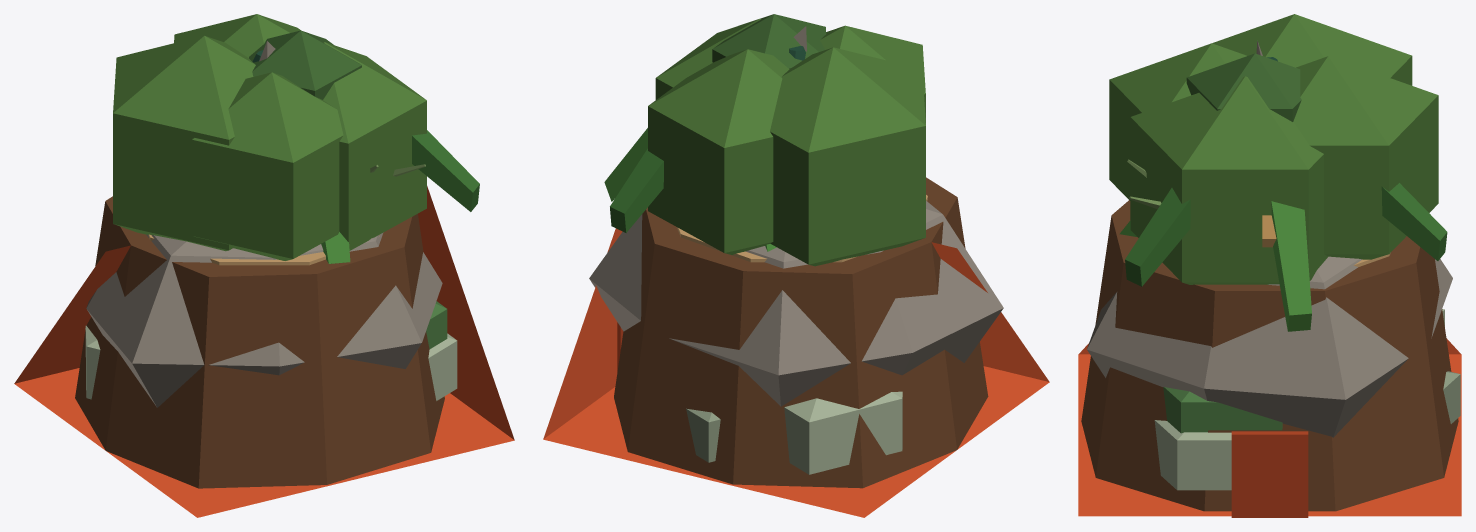
The model's file is scenery-mid.glb.
3 renders of one model, left to right at view 1: azimuth 30°, elevation 25°; view 2: azimuth 150°, elevation 25°; view 3: azimuth 270°, elevation 25°, orthographic. The views are drawn at different scales.
Parts seen in each view (by area): view 1: stump-bark, oak-oak-leaf, tent-canvas, rock-stone, oak-oak-leaf-dark, palm-palm-frond-dark, sage-sage-light, stump-cut-wood, bush-leaf-light, palm-palm-frond; view 2: stump-bark, oak-oak-leaf, rock-stone, tent-canvas, sage-sage-light, oak-oak-leaf-dark, palm-palm-frond-dark, sage-sage, palm-palm-frond; view 3: oak-oak-leaf, stump-bark, rock-stone, tent-canvas, tent-canvas-dark, palm-palm-frond-dark, sage-sage-light, oak-oak-leaf-dark, palm-palm-frond, bush-leaf-light, sage-sage.
Boxes of the visible parts, x1=… form: stump-bark: x1=75, y1=196, x2=444, y2=488; oak-oak-leaf: x1=113, y1=14, x2=426, y2=260; tent-canvas: x1=14, y1=186, x2=514, y2=517; rock-stone: x1=86, y1=232, x2=442, y2=407; oak-oak-leaf-dark: x1=249, y1=30, x2=361, y2=99; palm-palm-frond-dark: x1=412, y1=130, x2=479, y2=211; sage-sage-light: x1=85, y1=325, x2=457, y2=400; stump-cut-wood: x1=148, y1=234, x2=379, y2=265; bush-leaf-light: x1=426, y1=301, x2=447, y2=349; palm-palm-frond: x1=321, y1=232, x2=350, y2=263; stump-bark: x1=614, y1=177, x2=988, y2=488; oak-oak-leaf: x1=648, y1=18, x2=925, y2=266; rock-stone: x1=589, y1=201, x2=1003, y2=406; tent-canvas: x1=543, y1=228, x2=1049, y2=517; sage-sage-light: x1=784, y1=391, x2=902, y2=474; oak-oak-leaf-dark: x1=712, y1=14, x2=826, y2=68; palm-palm-frond-dark: x1=610, y1=148, x2=663, y2=232; sage-sage: x1=686, y1=408, x2=720, y2=462; palm-palm-frond: x1=604, y1=128, x2=776, y2=251; oak-oak-leaf: x1=1109, y1=14, x2=1438, y2=284; stump-bark: x1=1081, y1=200, x2=1458, y2=511; rock-stone: x1=1087, y1=256, x2=1452, y2=437; tent-canvas: x1=1078, y1=338, x2=1461, y2=516; tent-canvas-dark: x1=1231, y1=431, x2=1308, y2=517; palm-palm-frond-dark: x1=1125, y1=183, x2=1447, y2=286; sage-sage-light: x1=1154, y1=309, x2=1444, y2=490; oak-oak-leaf-dark: x1=1186, y1=53, x2=1301, y2=121; palm-palm-frond: x1=1119, y1=201, x2=1311, y2=331; bush-leaf-light: x1=1163, y1=387, x2=1282, y2=433; sage-sage: x1=1443, y1=371, x2=1460, y2=423.
Size of the model in its own units: 1.08 by 1.17 by 1.
